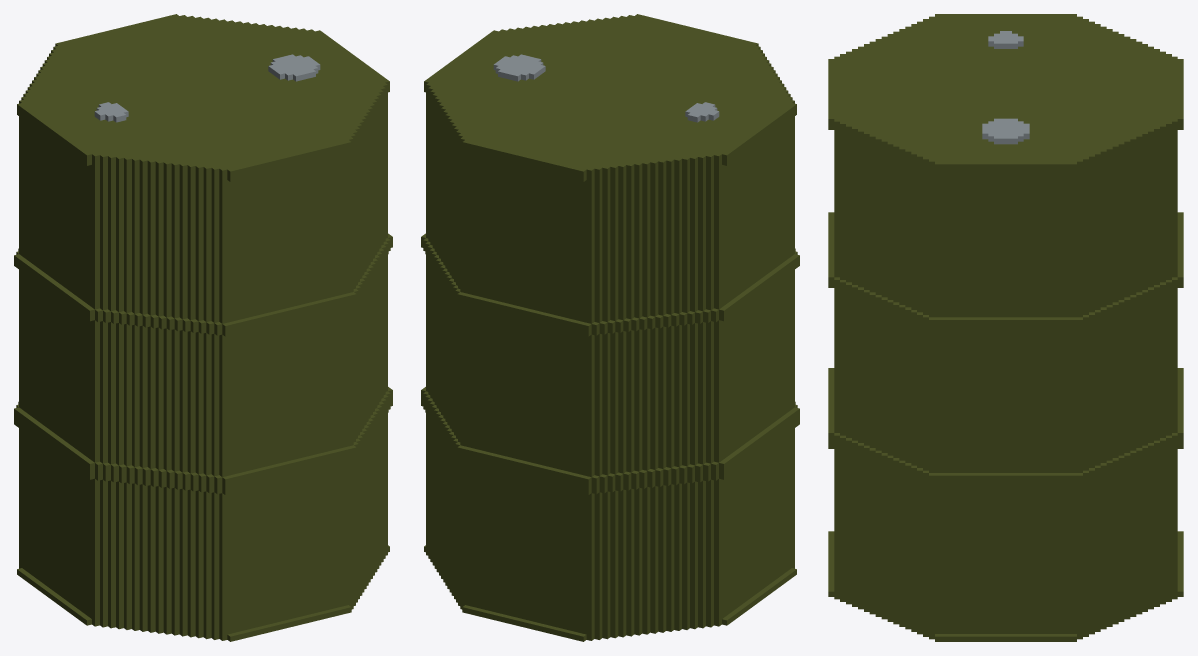
File: steel_drum_200.glb
The picture shows the model from 3 angles, left to right: view 1: azimuth 30°, elevation 25°; view 2: azimuth 150°, elevation 25°; view 3: azimuth 270°, elevation 25°; orthographic projection.
Parts seen in each view (by area): view 1: steel_drum_200:compound; view 2: steel_drum_200:compound; view 3: steel_drum_200:compound.
Part boxes in pixels (x1,y1,x2,y2): steel_drum_200:compound: (14,14,392,641); steel_drum_200:compound: (421,14,799,641); steel_drum_200:compound: (828,14,1183,641).
Size of the model in its own units: 0.6 by 0.9 by 0.6.
